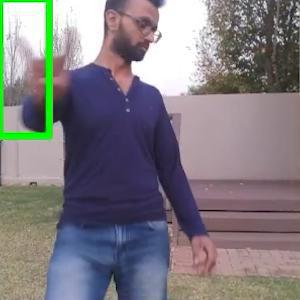takeoff-hand: (9, 20, 83, 116)
